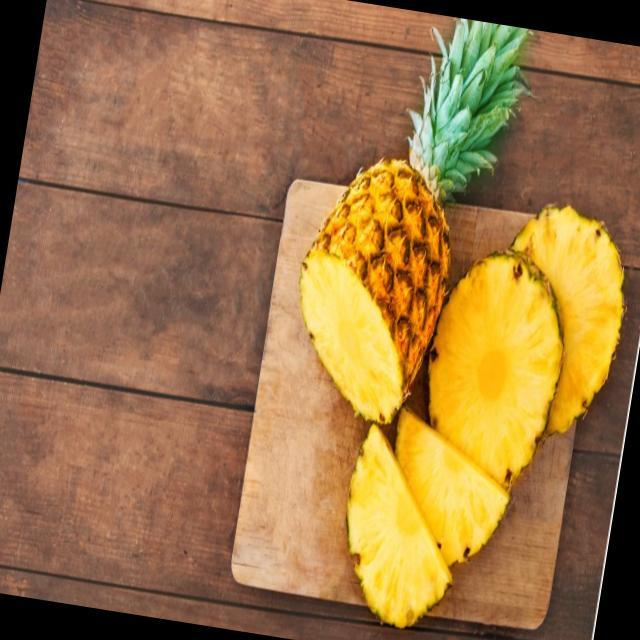PINEAPLE: (294, 32, 468, 415), (420, 225, 573, 478), (336, 425, 465, 640)
